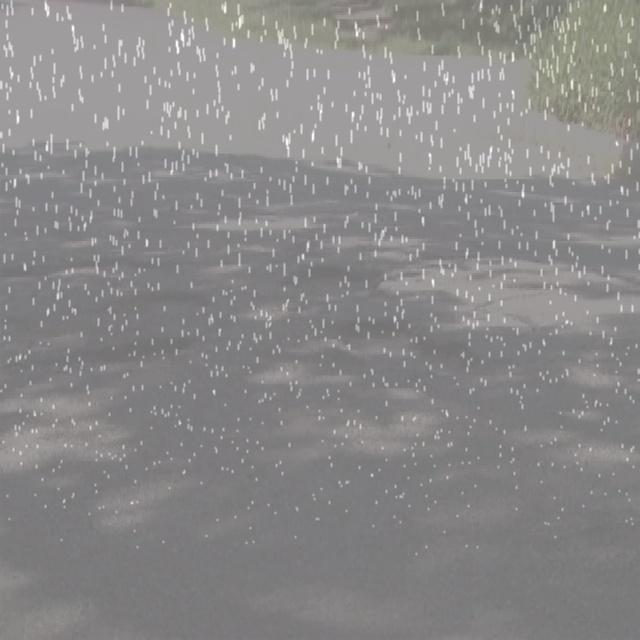Pothole: (371, 239, 640, 346), (0, 372, 138, 478), (179, 200, 334, 241), (11, 244, 141, 292), (215, 352, 362, 391), (147, 156, 231, 193), (10, 164, 92, 184)
